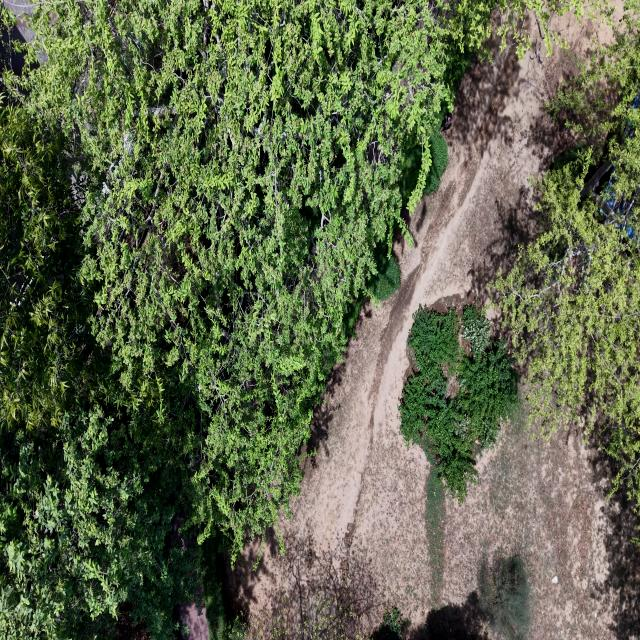DRY_AREA: (227, 17, 639, 639), (0, 0, 35, 74), (2, 0, 34, 42), (175, 603, 208, 639)
VEGETATION_TREE: (0, 0, 579, 638), (6, 2, 468, 545), (0, 107, 196, 638), (496, 0, 639, 513), (496, 150, 639, 504), (399, 306, 517, 600), (399, 306, 517, 500), (548, 0, 639, 201), (370, 550, 531, 639), (478, 554, 530, 639), (400, 132, 447, 213), (400, 132, 447, 212), (199, 532, 232, 639), (401, 133, 447, 204), (424, 448, 445, 602), (367, 248, 399, 300), (424, 133, 447, 194), (370, 605, 408, 639)
